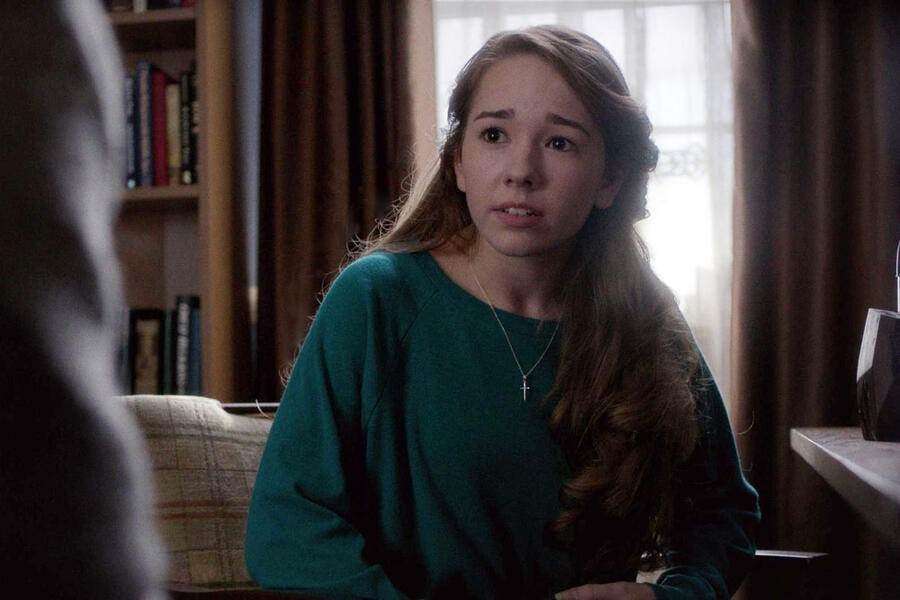face_no_mask: (445, 23, 643, 256)
